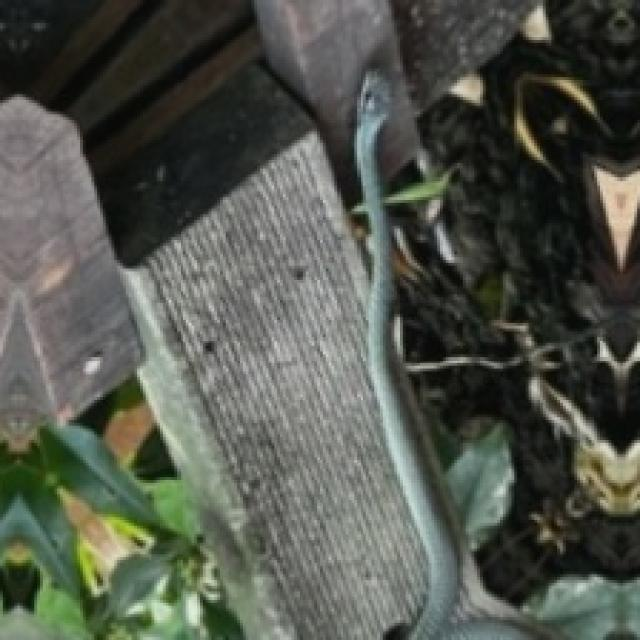paradise tree snake: (354, 69, 534, 637)
